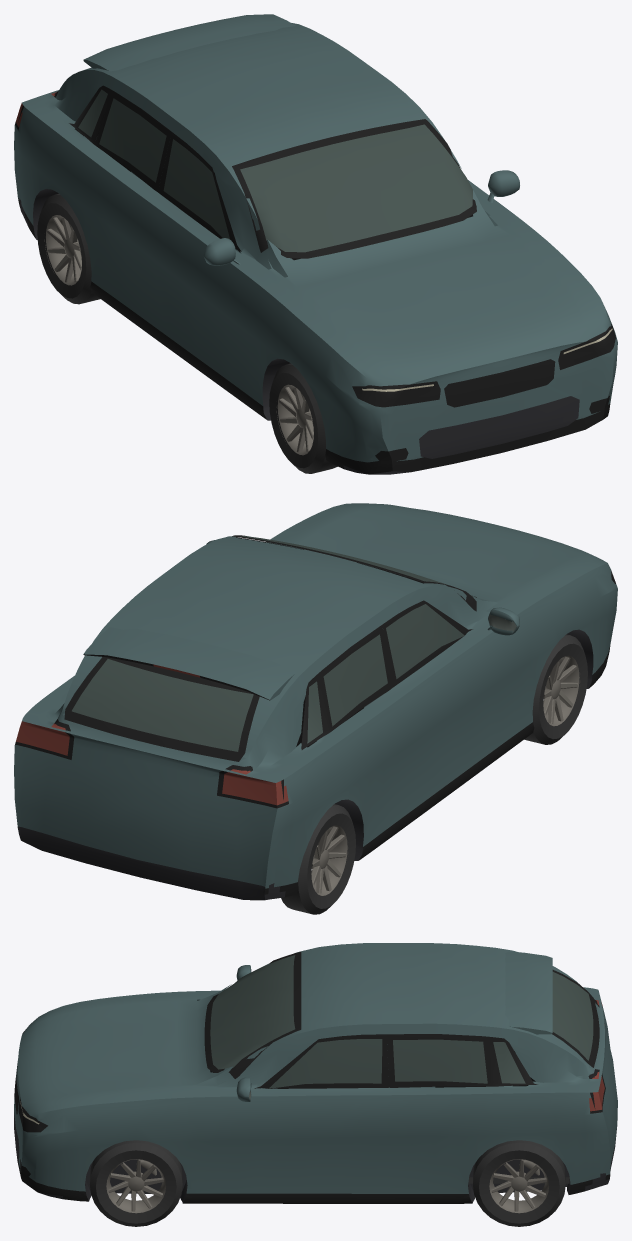
The model's file is milbinger-kleinwagen.glb.
The picture shows the model from 3 angles, top to bottom: view 1: azimuth 30°, elevation 25°; view 2: azimuth 150°, elevation 25°; view 3: azimuth 270°, elevation 25°; orthographic projection. The views are drawn at different scales.
Visible parts, largest first — view 1: body, glass_rear, mirror_L, wheel_FL_mesh, caliper_FL; view 2: body, glass_rear, mirror_L, wheel_FL_mesh, caliper_FL; view 3: body, glass_rear, wheel_FL_mesh, caliper_FL, mirror_L.
Part boxes in pixels (x1,y1,x2,y2): body: [14, 23, 617, 474]; glass_rear: [69, 85, 476, 258]; mirror_L: [83, 14, 519, 265]; wheel_FL_mesh: [37, 193, 337, 473]; caliper_FL: [44, 215, 313, 455]; body: [14, 503, 617, 900]; glass_rear: [64, 535, 516, 844]; mirror_L: [83, 540, 519, 700]; wheel_FL_mesh: [281, 634, 587, 914]; caliper_FL: [311, 655, 580, 895]; body: [14, 943, 617, 1203]; glass_rear: [204, 952, 599, 1183]; wheel_FL_mesh: [89, 1140, 565, 1226]; caliper_FL: [106, 1159, 548, 1213]; mirror_L: [236, 951, 552, 1101].
Size of the model in its own units: 2.03 by 1.46 by 4.1.
